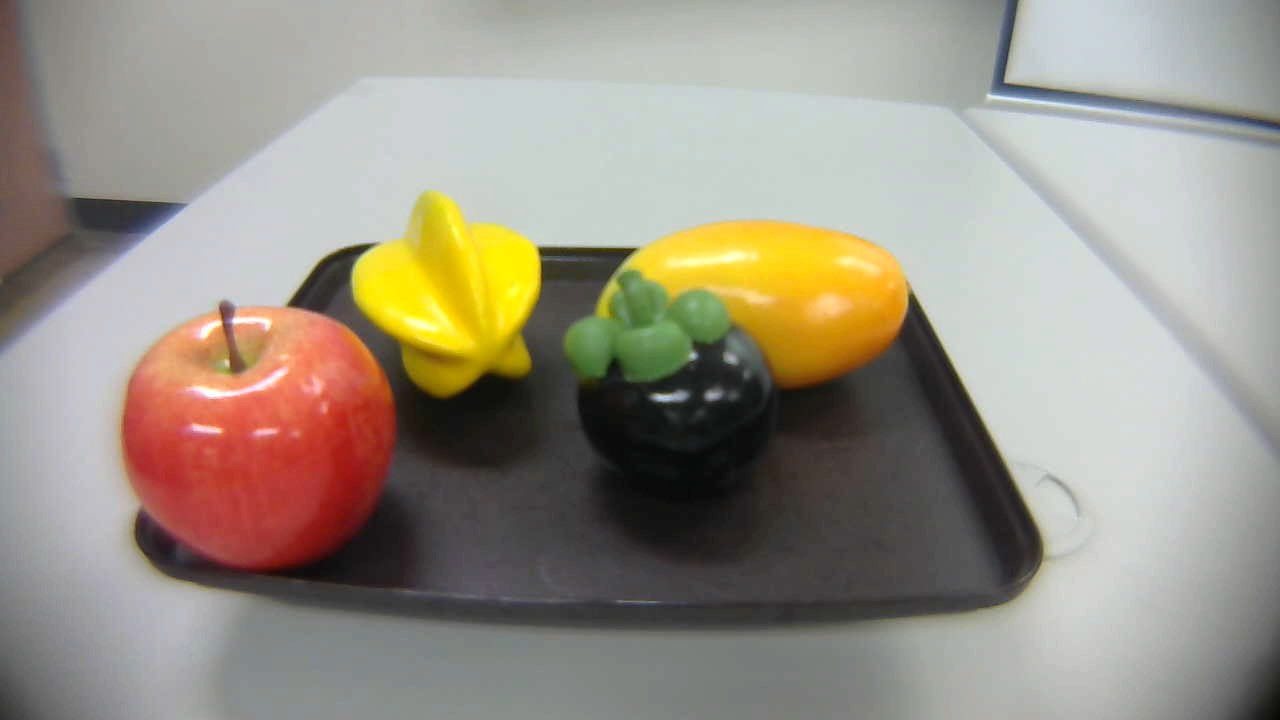mangosteen: (563, 271, 792, 498)
red apple: (108, 294, 402, 579)
star fruit: (348, 189, 547, 404)
yellow mango: (587, 201, 920, 399)
